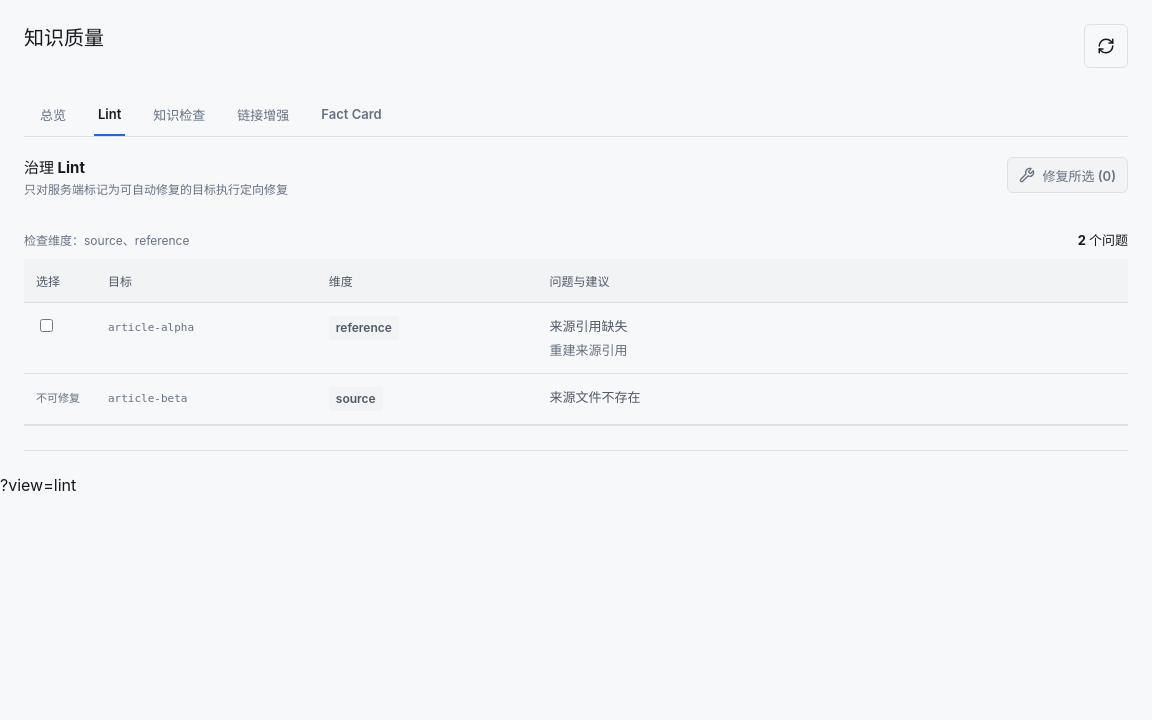
Scenario: quality page › requires explicit selection and confirmation before a scoped lint fix
The image size is (1152, 720).
Expected: the text "article-alpha" is shown, [108,321,194,334]
Expected: the text "不可修复" is shown, [36,391,80,405]
Click the checkbox named "选择 article-alpha" at (46, 326), box [40,319,53,332]
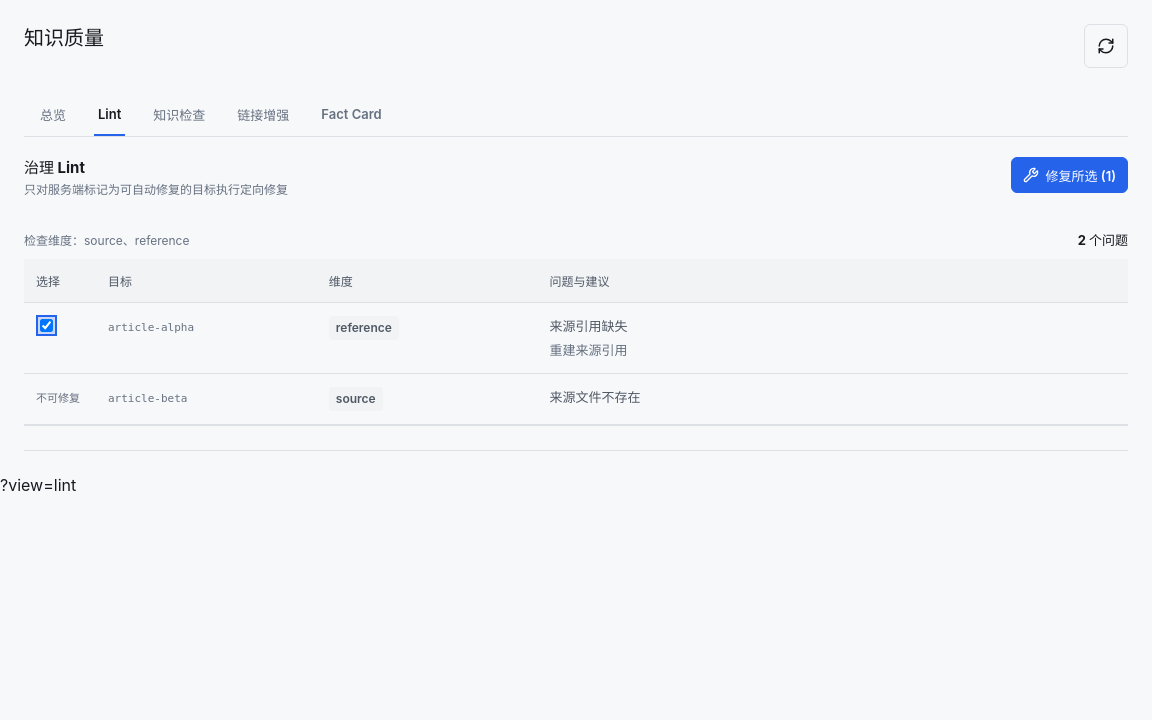
Click the button "修复所选 (1)" at (1069, 175), box [1010,157,1128,193]
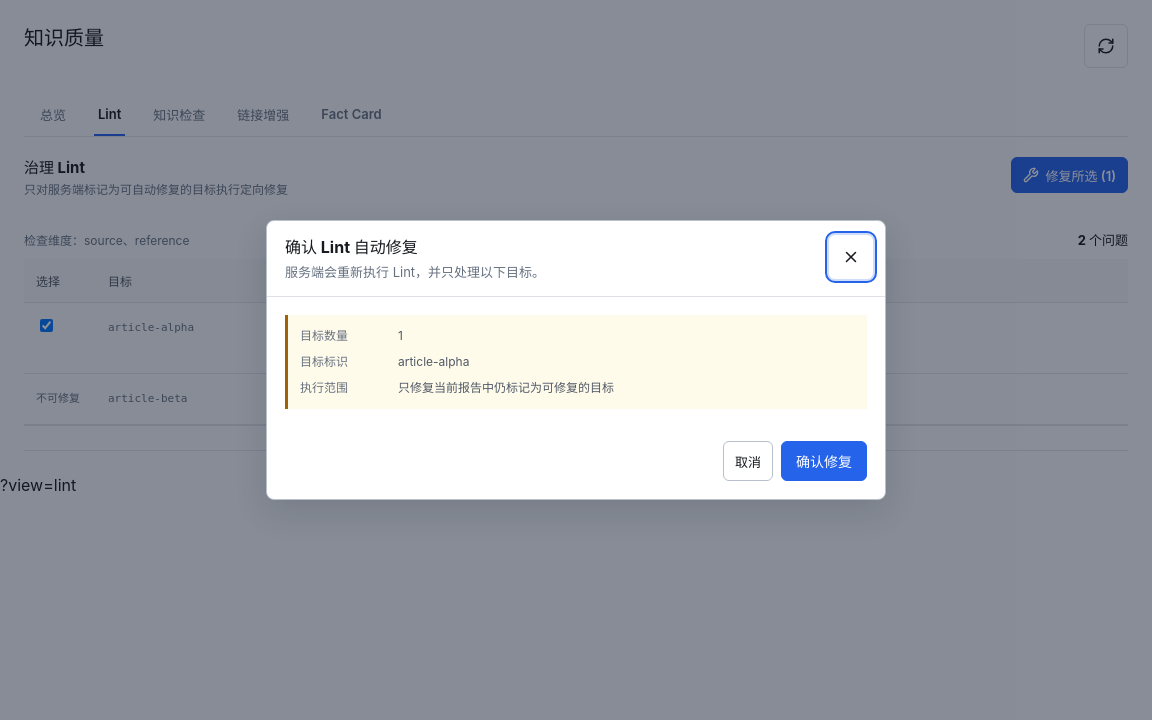
Now the text "article-alpha" is shown, box [398,354,469,369]
Click the button "确认修复" at (824, 461), box [781,441,867,481]
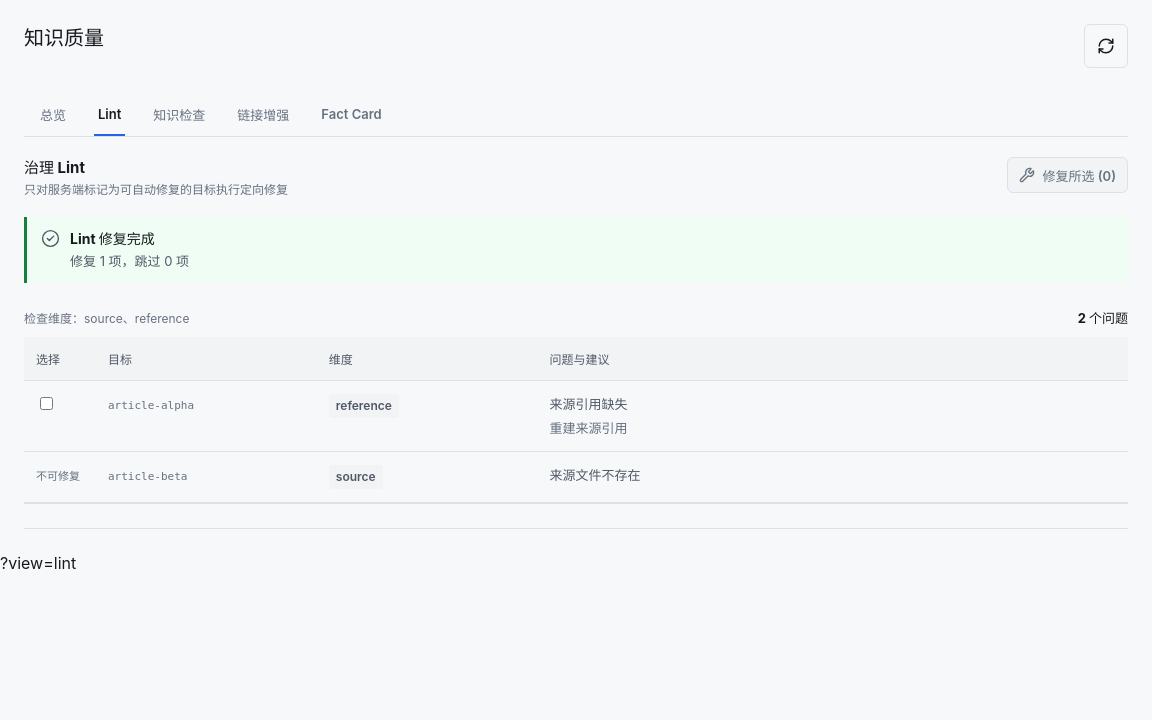
Now the text "Lint 修复完成" is shown, box [70,230,155,247]
